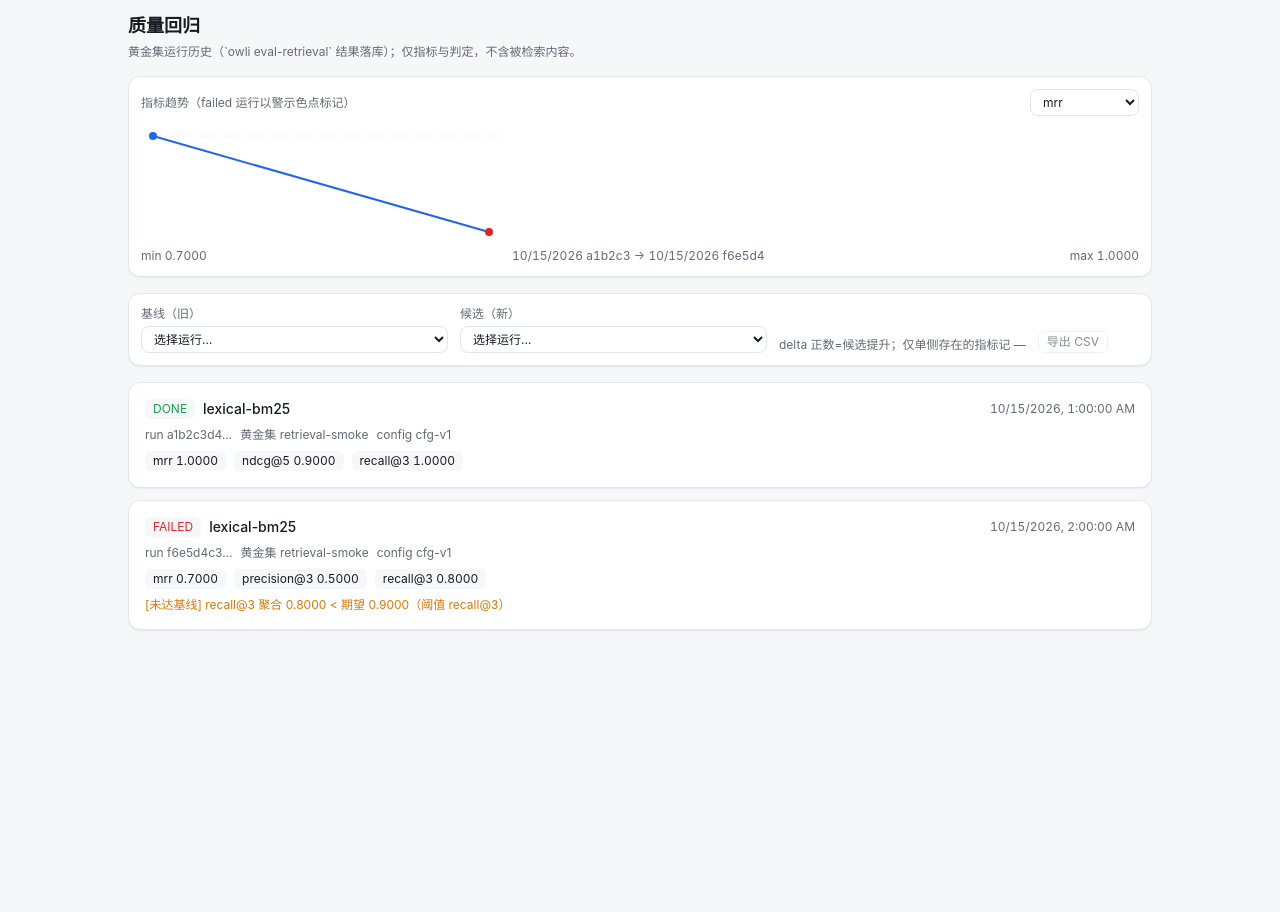
Test case: 质量回归面板 › 选择基线与候选后渲染指标差异表（delta 正数=提升）
Select "10/15/2026, 1:00:00 AM · lexical-bm25 · passed" in the dropdown named "基线运行" at [294, 340], box [141,326,448,353]
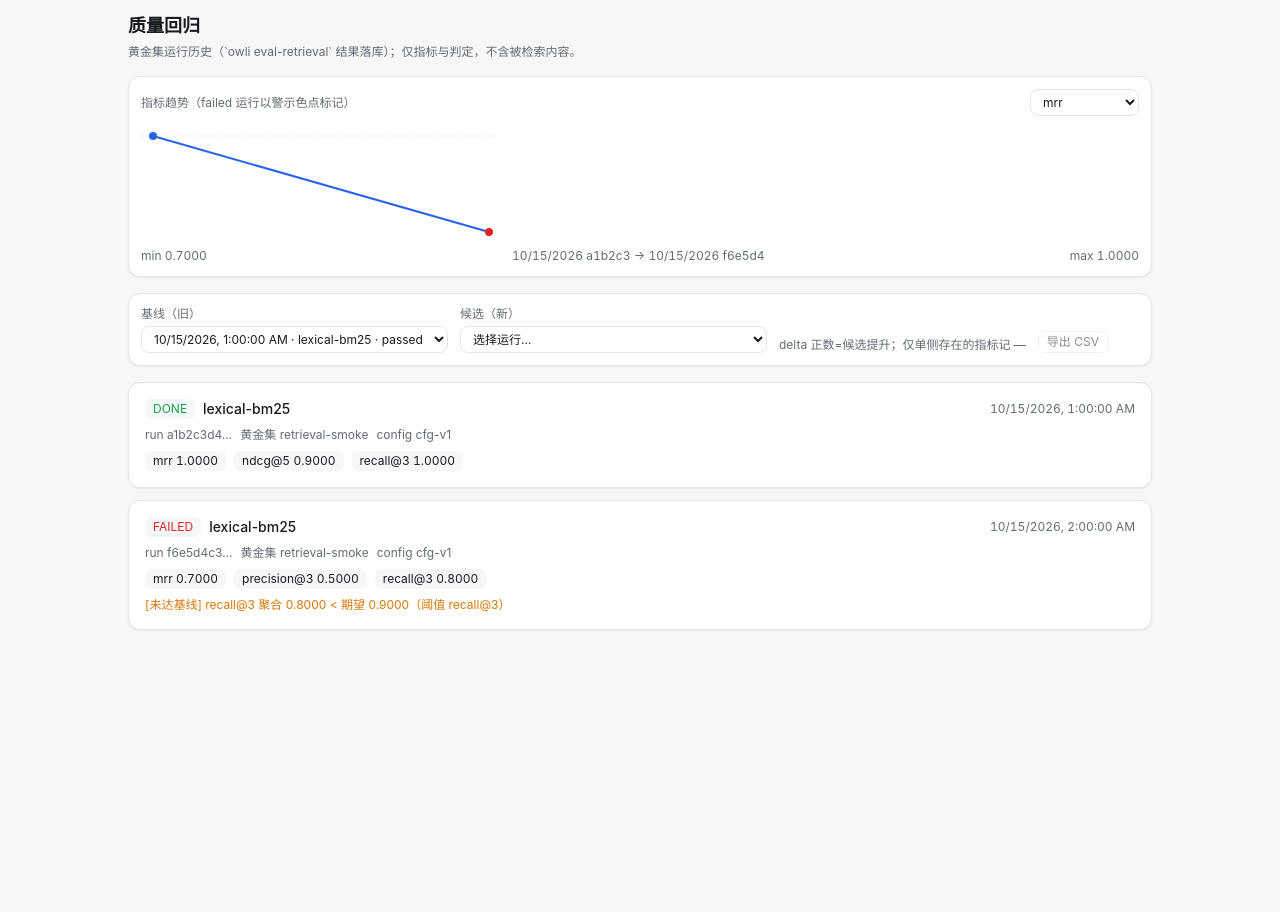
Select "10/15/2026, 2:00:00 AM · lexical-bm25 · failed" in the dropdown named "候选运行" at [614, 340], box [460,326,767,353]
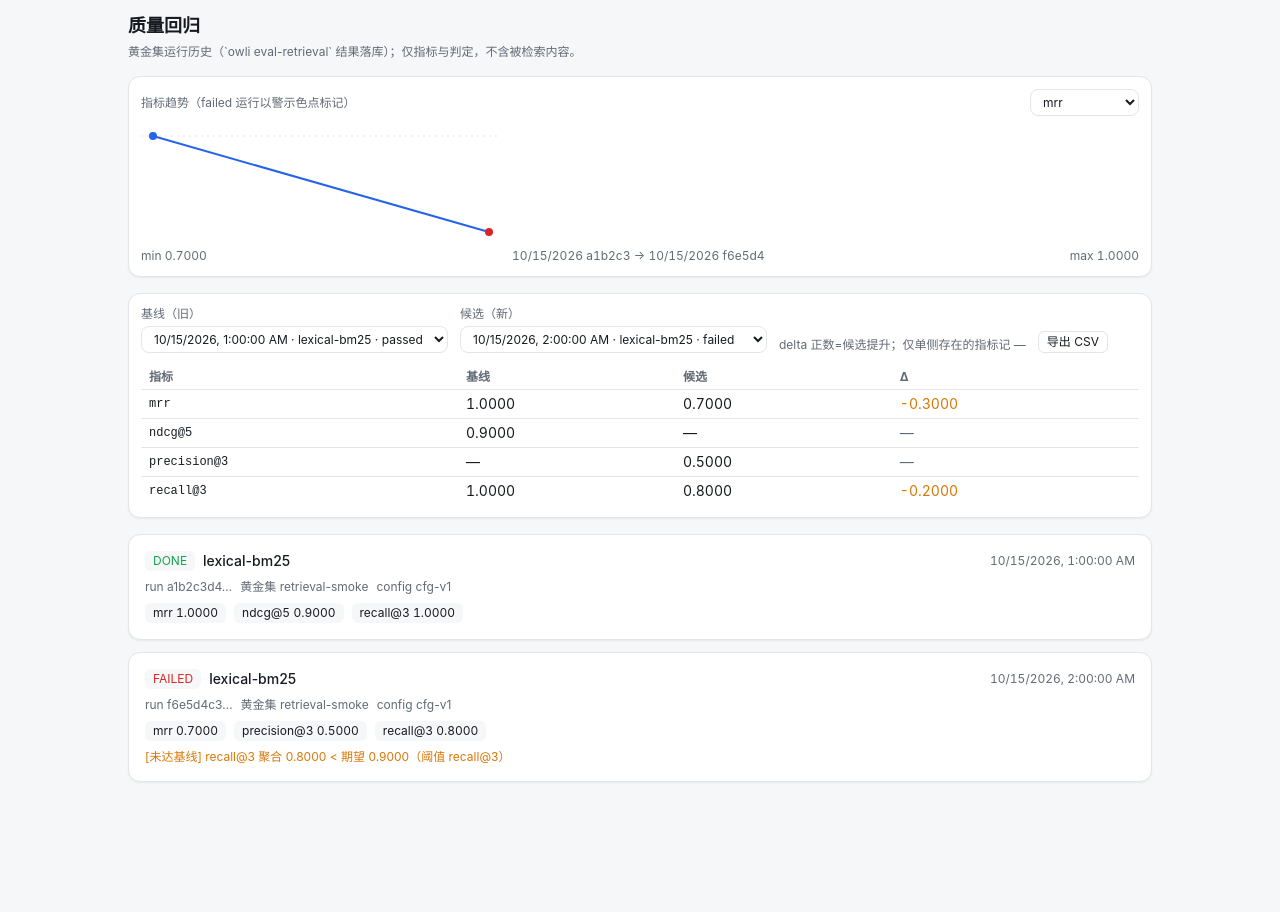
Expected: the table with test id "metric-diff" shows "recall@3", [149,484,207,498]
Expected: the table with test id "metric-diff" shows "-0.2000", [900,482,958,499]
Expected: the table with test id "metric-diff" shows "—", [683,424,697,441]
